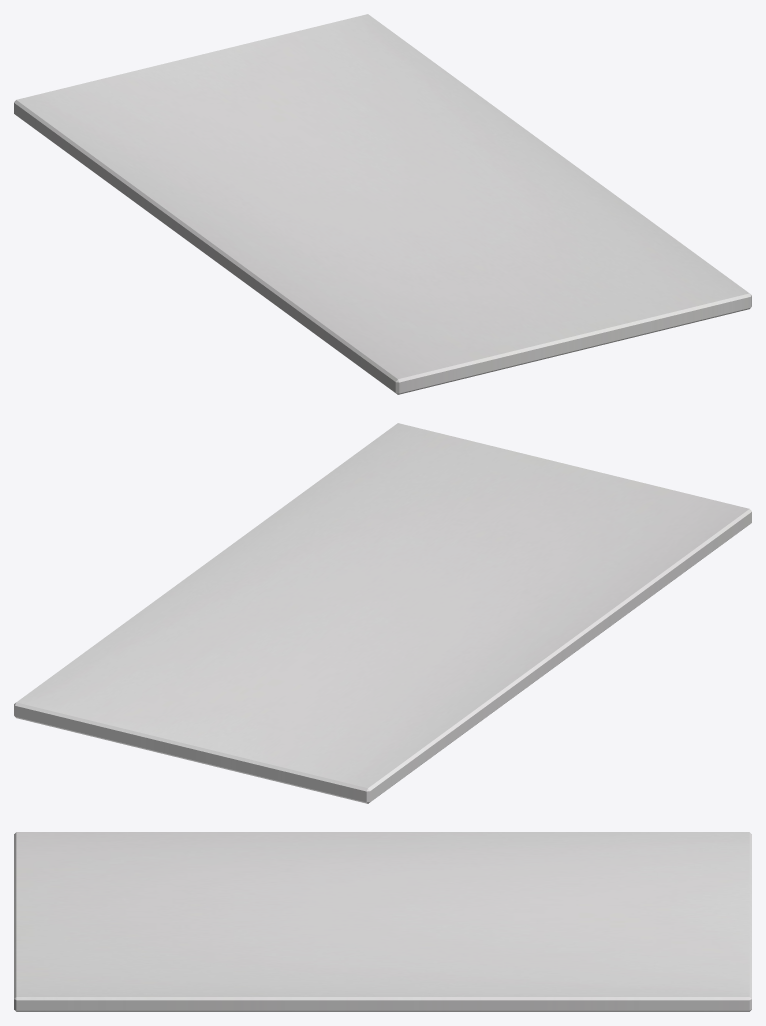
The model's file is cuttingboard.fbx.
The picture shows the model from 3 angles, top to bottom: view 1: azimuth 30°, elevation 25°; view 2: azimuth 150°, elevation 25°; view 3: azimuth 270°, elevation 25°; orthographic projection. The views are drawn at different scales.
Parts seen in each view (by area): view 1: cuttingboard; view 2: cuttingboard; view 3: cuttingboard.
Part boxes in pixels (box(x1,y1,x2,y2)): cuttingboard: box(14, 14, 751, 394); cuttingboard: box(14, 423, 751, 803); cuttingboard: box(14, 832, 751, 1011).
Size of the model in its own units: 23.33 by 0.9839 by 43.59.
1 material, 1 textured.
